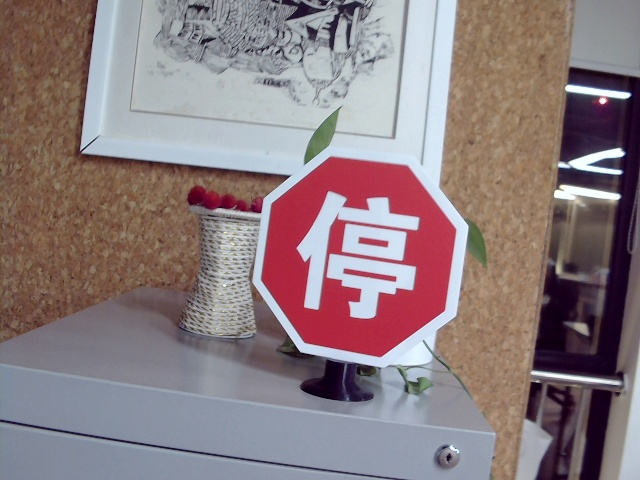stop: (297, 188, 415, 318)
